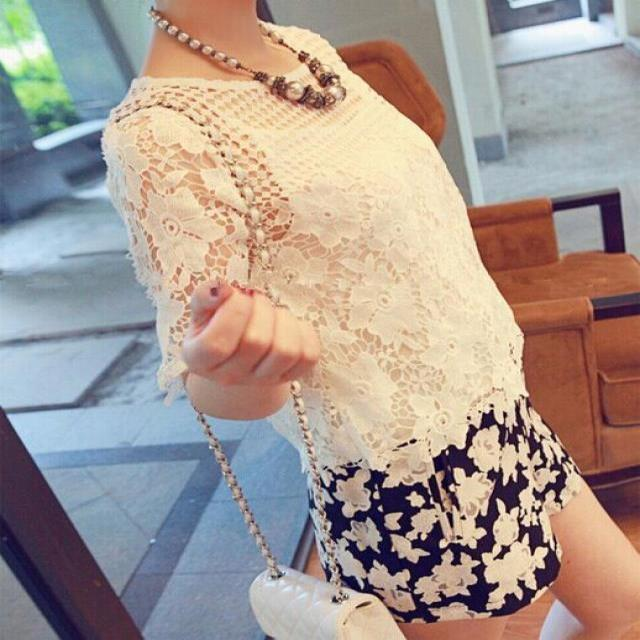short sleeve top: (105, 22, 529, 472)
shorts: (303, 341, 583, 611)
